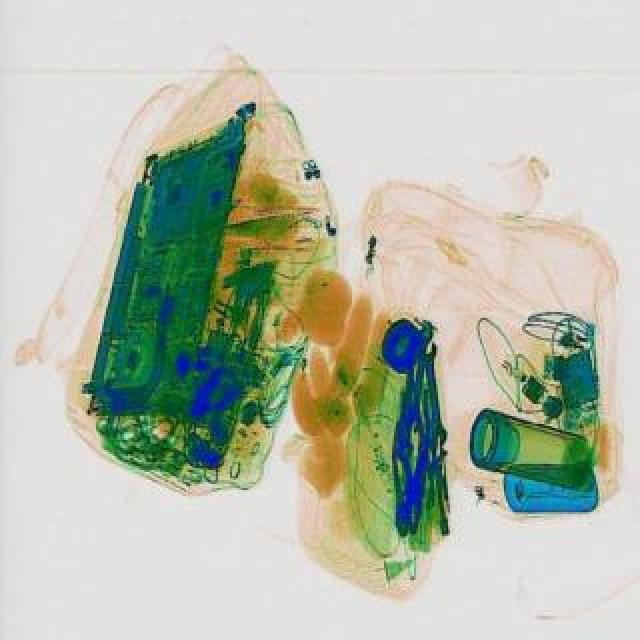scissors: (418, 340, 450, 452)
wrench: (386, 420, 430, 536), (396, 424, 432, 532)
